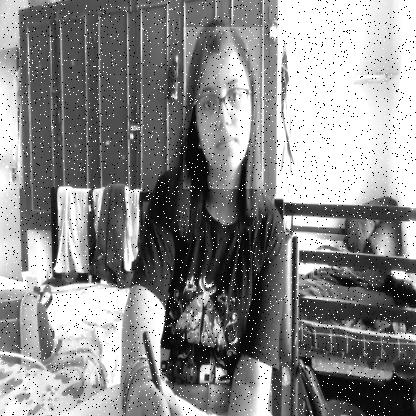Normal: (183, 27, 264, 189)
